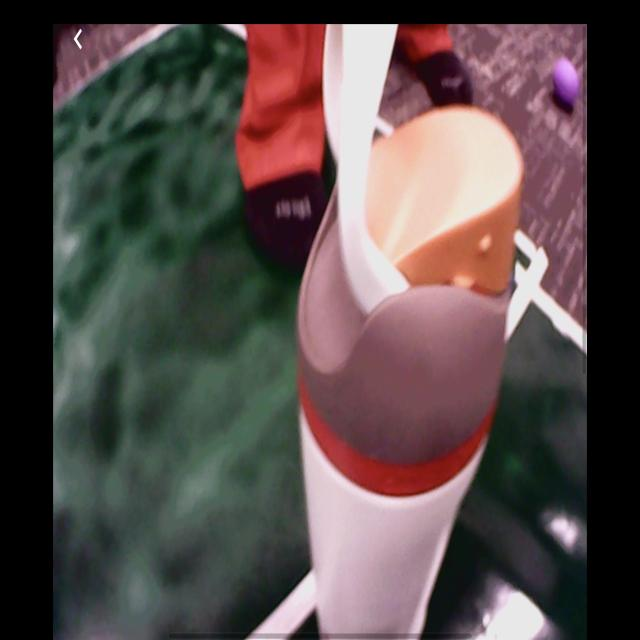ball: (556, 53, 580, 113)
